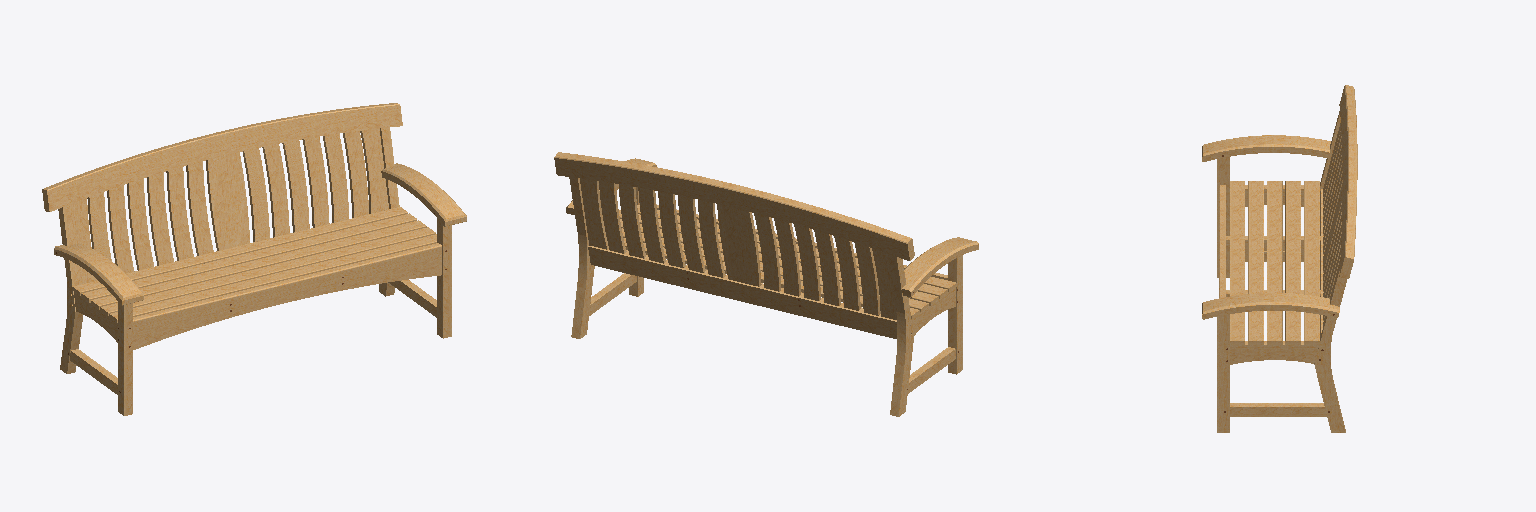
3 views of the same model, side by side, from view 1: azimuth 30°, elevation 25°; view 2: azimuth 150°, elevation 25°; view 3: azimuth 270°, elevation 25° (orthographic).
Parts seen in each view (by area): view 1: Bench_c_seat_slats-Wood4_Hor, Bench_c_crest_rail-Wood4_Hor, Bench_c_front_rail-Wood4_Hor, Bench_g_292839-Wood4_Ver, Bench_c_arms_1-Wood4_Ver, Bench_c_front_legs_1-Wood4_Hor, Bench_c_back_legs_1-Wood4_Hor, Bench_g_285476-Wood4_Ver, Bench_g_292162-Wood4_Ver, Bench_g_292157-Wood4_Ver, Bench_g_285471-Wood4_Ver, Bench_g_285472-Wood4_Ver (+14 smaller); view 2: Bench_c_crest_rail-Wood4_Hor, Bench_c_back_rail-Wood4_Hor, Bench_c_back_legs_1-Wood4_Hor, Bench_g_292839-Wood4_Ver, Bench_c_seat_slats-Wood4_Hor, Bench_c_back_legs_1-Wood4_Ver, Bench_c_lower_rails-Wood4_Hor, Bench_c_arms_1-Wood4_Ver, Bench_g_292162-Wood4_Ver, Bench_g_285476-Wood4_Ver, Bench_g_285471-Wood4_Ver, Bench_g_292157-Wood4_Ver (+14 smaller); view 3: Bench_c_seat_slats-Wood4_Hor, Bench_c_crest_rail-Wood4_Hor, Bench_c_arms_1-Wood4_Ver, Bench_c_front_legs_1-Wood4_Ver, Bench_c_arms_1-Wood4_Hor, Bench_c_back_legs_1-Wood4_Ver, Bench_c_seat_rails_1-Wood4_Hor, Bench_c_lower_rails-Wood4_Hor, Bench_c_front_rail-Wood4_Hor.
Boxes of the visible parts, x1,y1,x2,y2 form: Bench_c_seat_slats-Wood4_Hor: [72, 207, 436, 322]; Bench_c_crest_rail-Wood4_Hor: [42, 103, 402, 211]; Bench_c_front_rail-Wood4_Hor: [133, 243, 441, 349]; Bench_g_292839-Wood4_Ver: [208, 152, 249, 250]; Bench_c_arms_1-Wood4_Ver: [55, 163, 466, 304]; Bench_c_front_legs_1-Wood4_Hor: [124, 225, 451, 415]; Bench_c_back_legs_1-Wood4_Hor: [63, 128, 399, 373]; Bench_g_285476-Wood4_Ver: [243, 148, 269, 241]; Bench_g_292162-Wood4_Ver: [186, 161, 213, 255]; Bench_g_292157-Wood4_Ver: [166, 167, 193, 260]; Bench_g_285471-Wood4_Ver: [262, 144, 289, 237]; Bench_g_285472-Wood4_Ver: [282, 140, 309, 232]; Bench_c_crest_rail-Wood4_Hor: [554, 152, 914, 260]; Bench_c_back_rail-Wood4_Hor: [588, 246, 896, 338]; Bench_c_back_legs_1-Wood4_Hor: [569, 177, 905, 416]; Bench_g_292839-Wood4_Ver: [717, 204, 758, 286]; Bench_c_seat_slats-Wood4_Hor: [619, 205, 956, 318]; Bench_c_back_legs_1-Wood4_Ver: [578, 178, 913, 416]; Bench_c_lower_rails-Wood4_Hor: [589, 273, 955, 393]; Bench_c_arms_1-Wood4_Ver: [566, 158, 976, 297]; Bench_g_292162-Wood4_Ver: [754, 213, 780, 291]; Bench_g_285476-Wood4_Ver: [698, 200, 725, 277]; Bench_g_285471-Wood4_Ver: [678, 195, 705, 272]; Bench_g_292157-Wood4_Ver: [774, 218, 800, 296]; Bench_c_seat_slats-Wood4_Hor: [1230, 181, 1319, 344]; Bench_c_crest_rail-Wood4_Hor: [1339, 85, 1357, 278]; Bench_c_arms_1-Wood4_Ver: [1202, 135, 1339, 313]; Bench_c_front_legs_1-Wood4_Ver: [1217, 157, 1229, 432]; Bench_c_arms_1-Wood4_Hor: [1202, 144, 1339, 319]; Bench_c_back_legs_1-Wood4_Ver: [1314, 115, 1346, 432]; Bench_c_seat_rails_1-Wood4_Hor: [1230, 189, 1318, 364]; Bench_c_lower_rails-Wood4_Hor: [1230, 251, 1326, 416]; Bench_c_front_rail-Wood4_Hor: [1219, 185, 1225, 297].
Size of the model in its own units: 1.81 by 0.9527 by 0.6889.
Materials: 5 (5 with a texture image).